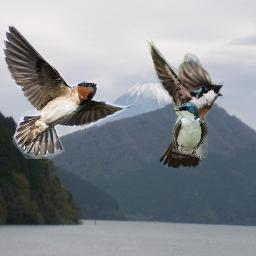Swallow: (1, 22, 135, 159), (146, 39, 224, 168), (172, 102, 208, 158)
